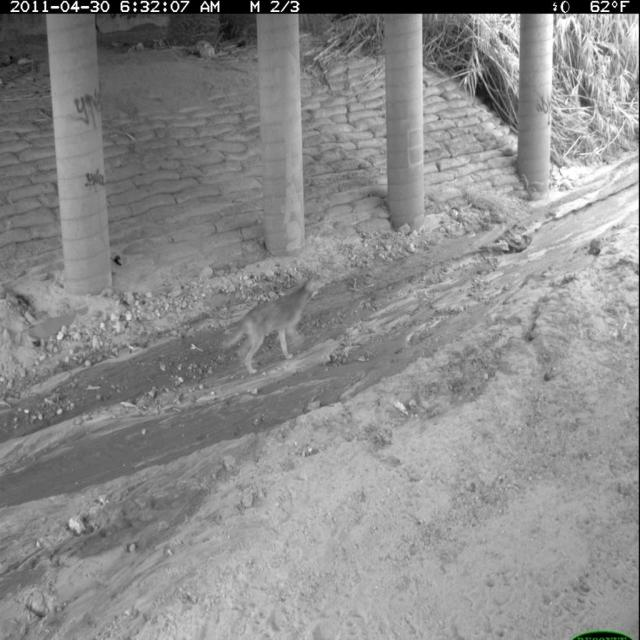coyote: (221, 274, 322, 377)
